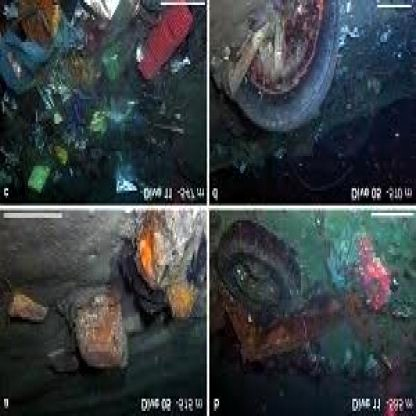pbottle: (144, 2, 198, 70)
plastic: (19, 161, 53, 196)
tire: (219, 220, 297, 324), (249, 2, 318, 119)
